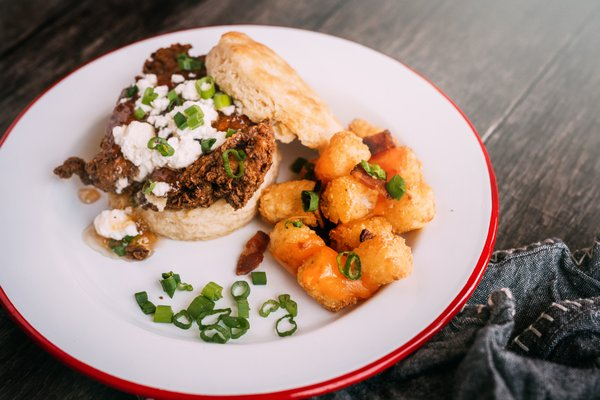sushi: (62, 24, 501, 394)
